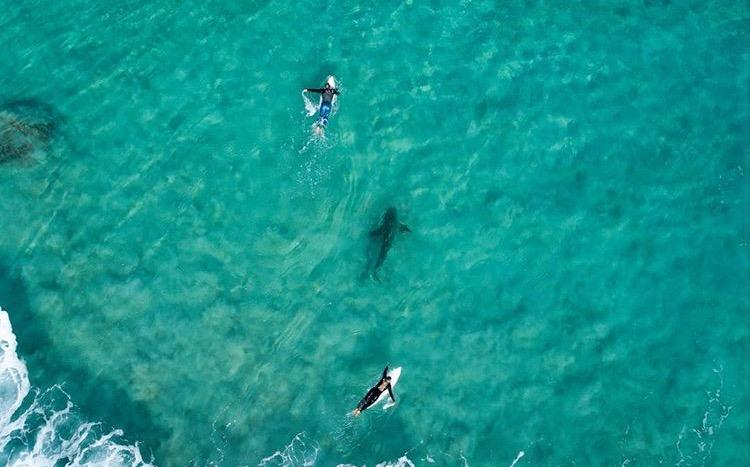shark: (358, 203, 413, 285)
surfer: (349, 361, 403, 420), (301, 72, 343, 142)
